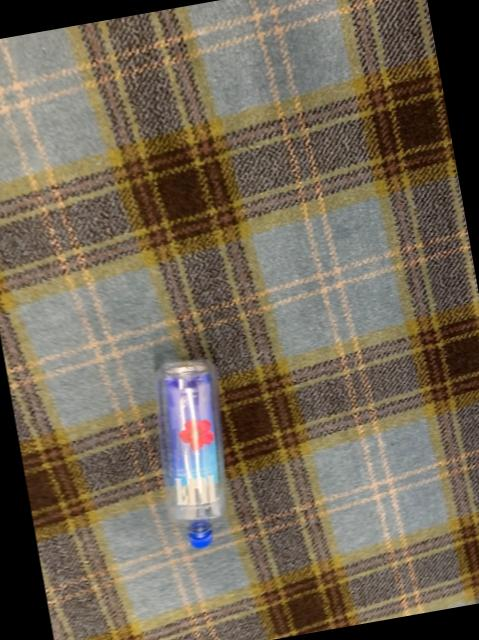plastic: (154, 360, 223, 549)
